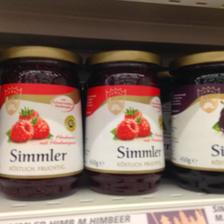Marmelade: (0, 43, 84, 200), (84, 48, 164, 196), (168, 50, 224, 193)
